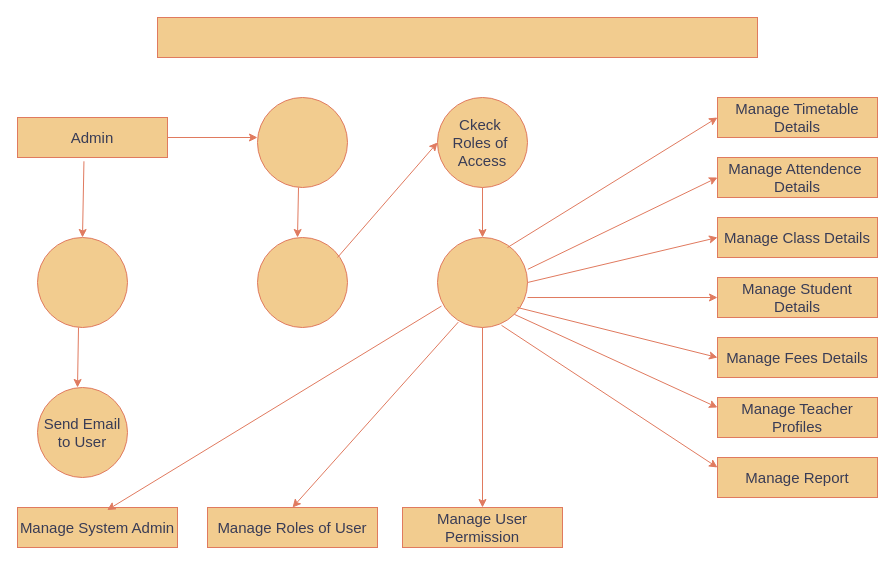
This 895x565 diagram has some shape labels left out. Here are the shapes that lost their labels. From the top down, the box of each, then its label:
(156, 16, 758, 58): Student Information System
(256, 96, 348, 188): Login to System
(36, 236, 128, 328): Forgot Password
(256, 236, 348, 328): Check Credentials
(436, 236, 528, 328): Manage Modules
